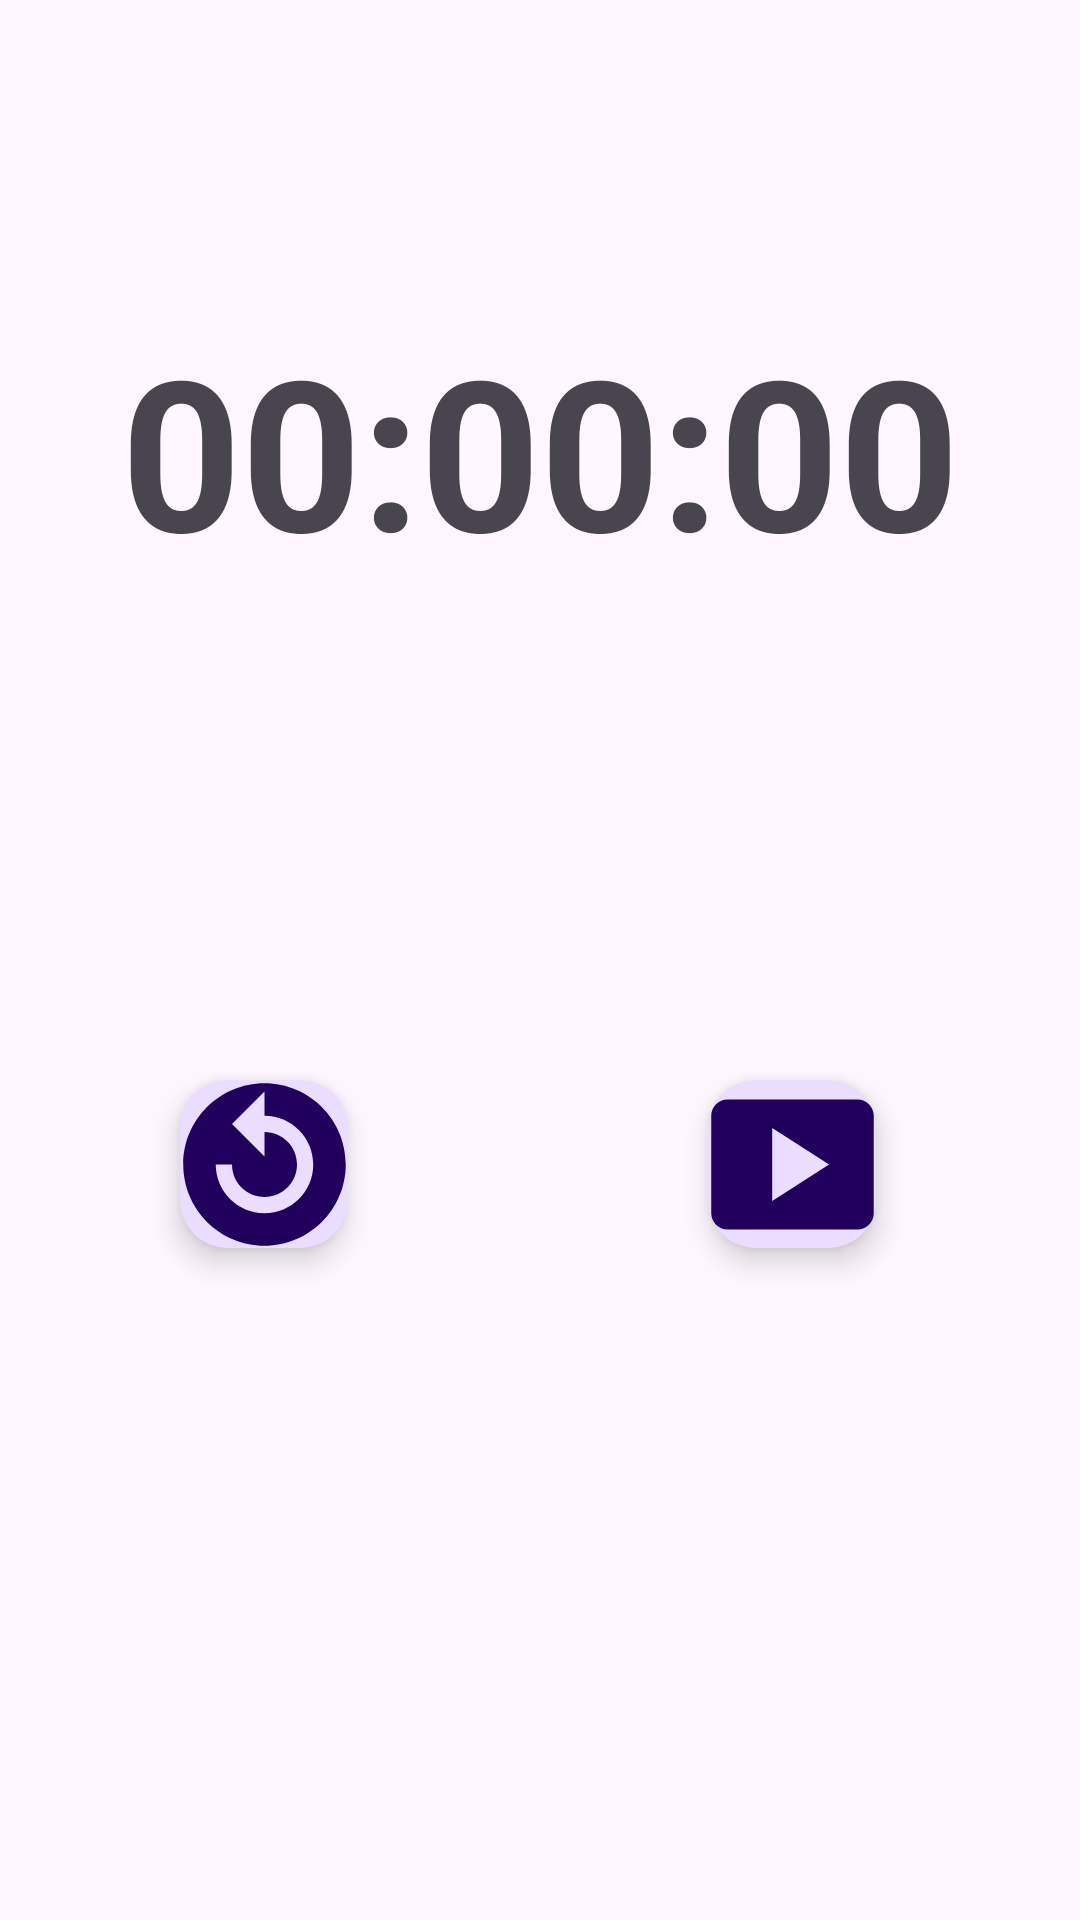

Icons on this 1080px x 1920px Android screen, each with its box as (x1, y1, x2, y2):
playpause: (711, 1099, 876, 1248)
reset: (183, 1083, 346, 1246)
